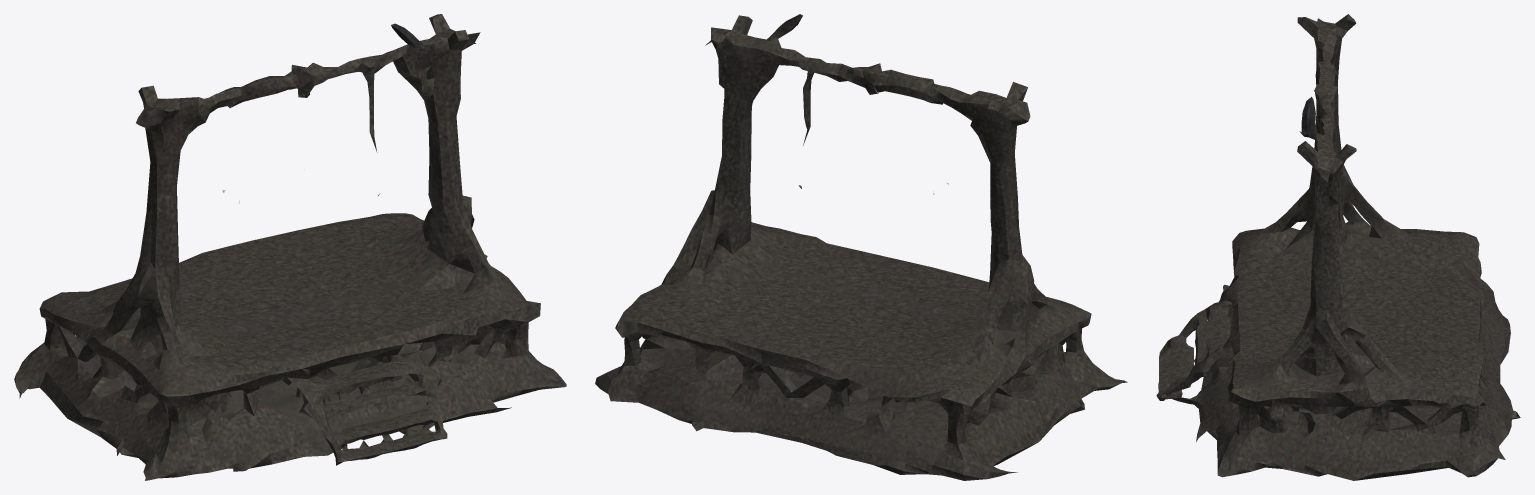
File: b3-gallows-pixelated.glb
The picture shows the model from 3 angles, left to right: view 1: azimuth 30°, elevation 25°; view 2: azimuth 150°, elevation 25°; view 3: azimuth 270°, elevation 25°; orthographic projection. The views are drawn at different scales.
Visible parts, largest first — view 1: b3-gallows.glb; view 2: b3-gallows.glb; view 3: b3-gallows.glb.
Part boxes in pixels (<box>): b3-gallows.glb: <box>14,14,566,480</box>; b3-gallows.glb: <box>595,14,1127,480</box>; b3-gallows.glb: <box>1156,14,1520,480</box>.
Size of the model in its own units: 1.79 by 1.4 by 1.43.
1 material, 1 textured.
